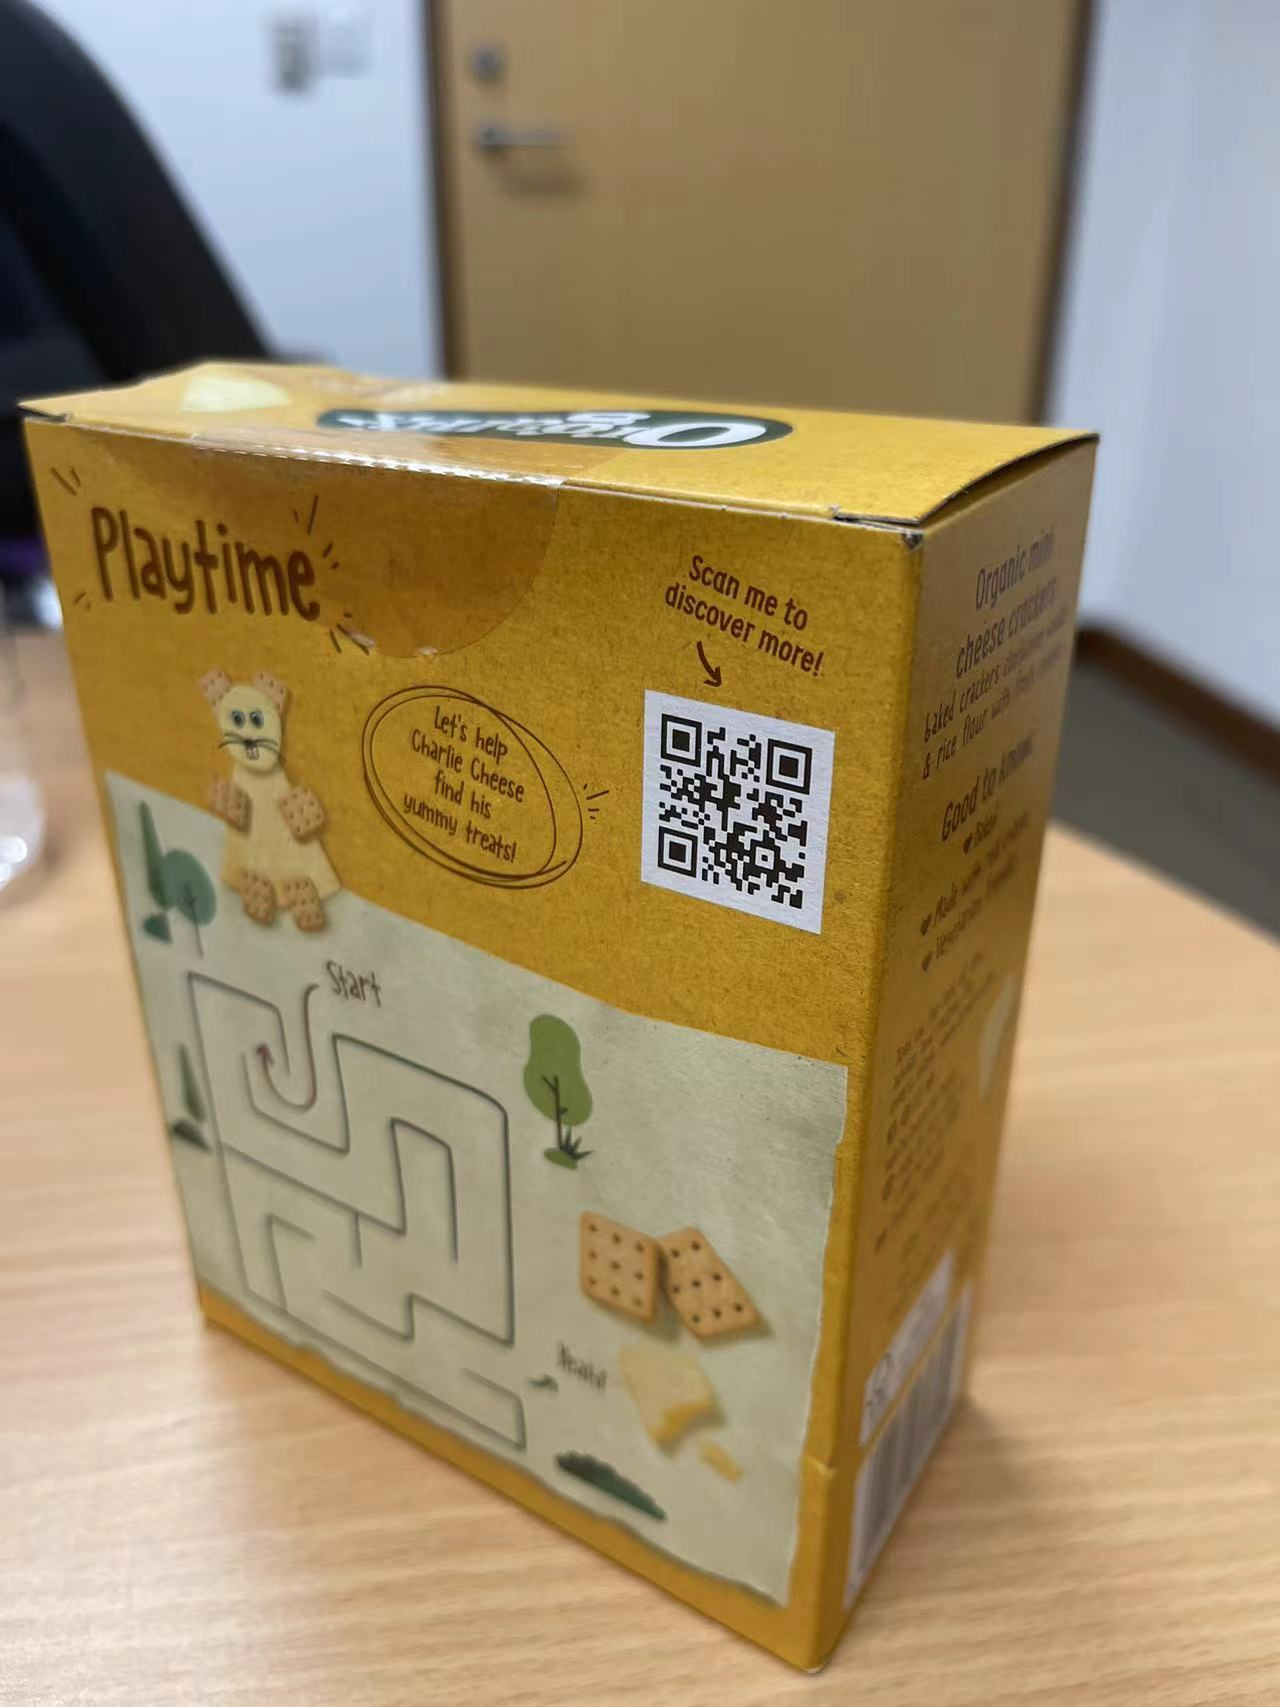Crackers_1-99g_NonHalal_NonHealthy: (8, 348, 1104, 1694)
